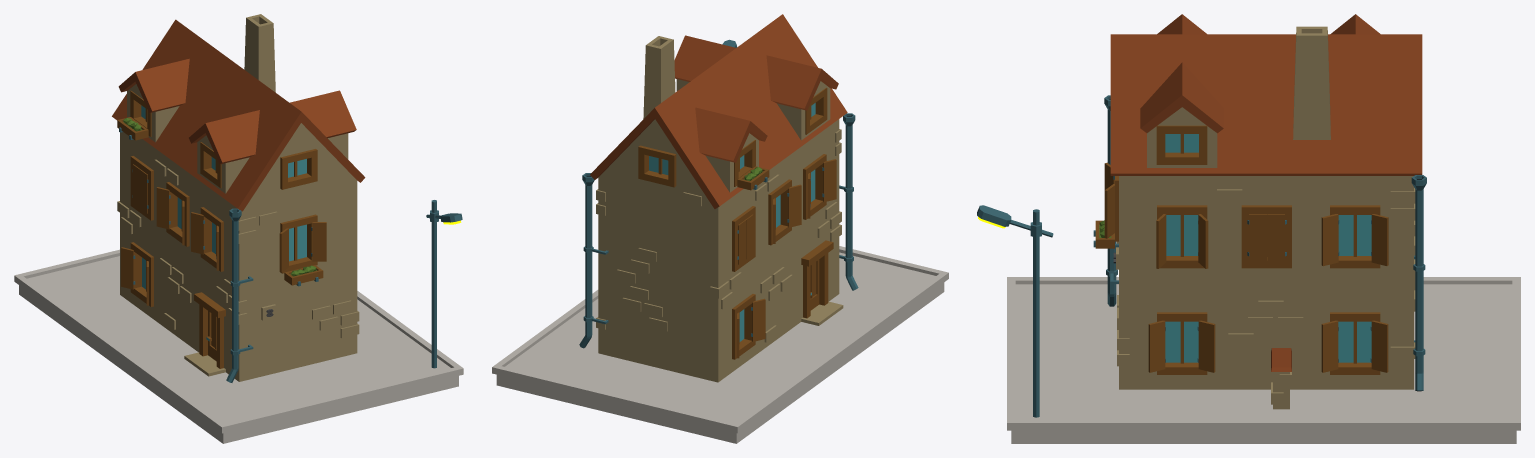
File: orange_building1.glb
The picture shows the model from 3 angles, left to right: view 1: azimuth 30°, elevation 25°; view 2: azimuth 150°, elevation 25°; view 3: azimuth 270°, elevation 25°; orthographic projection. The views are drawn at different scales.
Visible parts, largest first — view 1: Plane1117, Box16102, Object440_wall2_0, Box16101, Rectangle033, Object442_wall2_0, Box16105, Object443_wall2_0, Box16109, WRectangle004, WRectangle007, street_light_014_metal_0 (+15 smaller); view 2: Plane1117, Box16102, Box16101, Object440_wall2_0, Rectangle033, Object442_wall2_0, Box16105, Object443_wall2_0, Box16109, Cylinder1736, Cylinder1743, WRectangle007 (+14 smaller); view 3: Plane1117, Object440_wall2_0, Box16102, Box16101, Rectangle033, Box16109, Object442_wall2_0, WRectangle003, WRectangle005, WRectangle006, WRectangle001, street_light_014_metal_0 (+17 smaller).
Part boxes in pixels (left/top/right/bottom): Plane1117: left=19, top=256, right=458, bottom=443; Box16102: left=120, top=213, right=357, bottom=381; Object440_wall2_0: left=112, top=19, right=365, bottom=211; Box16101: left=120, top=132, right=357, bottom=295; Rectangle033: left=14, top=249, right=463, bottom=433; Object442_wall2_0: left=189, top=90, right=356, bottom=164; Box16105: left=245, top=123, right=356, bottom=207; Object443_wall2_0: left=118, top=58, right=189, bottom=112; Box16109: left=244, top=14, right=275, bottom=92; WRectangle004: left=280, top=214, right=317, bottom=273; WRectangle007: left=280, top=149, right=317, bottom=189; street_light_014_metal_0: left=426, top=200, right=462, bottom=368; Plane1117: left=496, top=252, right=944, bottom=443; Box16102: left=598, top=206, right=839, bottom=382; Box16101: left=598, top=119, right=839, bottom=292; Object440_wall2_0: left=590, top=14, right=847, bottom=208; Rectangle033: left=492, top=246, right=948, bottom=433; Object442_wall2_0: left=674, top=35, right=838, bottom=110; Box16105: left=598, top=119, right=711, bottom=205; Object443_wall2_0: left=695, top=107, right=767, bottom=162; Box16109: left=643, top=36, right=675, bottom=118; Cylinder1736: left=843, top=113, right=858, bottom=290; Cylinder1743: left=579, top=173, right=594, bottom=348; WRectangle007: left=638, top=145, right=676, bottom=187; Plane1117: left=1011, top=284, right=1516, bottom=443; Object440_wall2_0: left=1110, top=34, right=1422, bottom=175; Box16102: left=1119, top=283, right=1413, bottom=389; Box16101: left=1119, top=176, right=1413, bottom=282; Rectangle033: left=1007, top=277, right=1520, bottom=430; Box16109: left=1293, top=26, right=1330, bottom=139; Object442_wall2_0: left=1140, top=14, right=1223, bottom=133; WRectangle003: left=1330, top=205, right=1380, bottom=268; WRectangle005: left=1157, top=312, right=1207, bottom=374; WRectangle006: left=1330, top=312, right=1380, bottom=374; WRectangle001: left=1157, top=205, right=1207, bottom=268; street_light_014_metal_0: left=977, top=205, right=1053, bottom=417.
Size of the model in its own units: 8.2 by 9.59 by 12.91.
